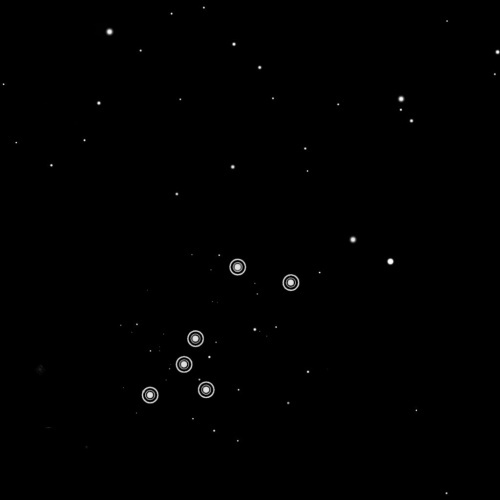canis_major: (136, 251, 306, 413)
